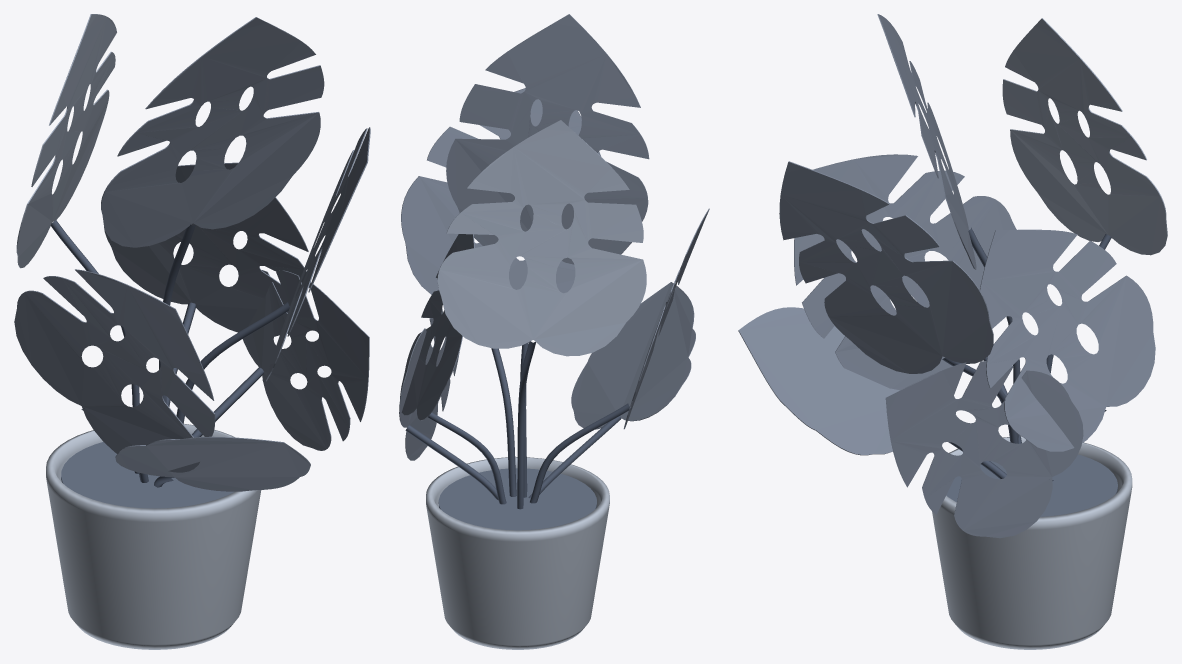
File: plant-monstera-lite.glb
The picture shows the model from 3 angles, left to right: view 1: azimuth 30°, elevation 25°; view 2: azimuth 150°, elevation 25°; view 3: azimuth 270°, elevation 25°; orthographic projection. The views are drawn at different scales.
Parts seen in each view (by area): view 1: soft, body, light, glass, dark; view 2: soft, light, body, glass, dark; view 3: soft, body, light, glass, dark.
Part boxes in pixels (bbox=[...]): soft: bbox=[14, 17, 370, 491]; body: bbox=[46, 424, 261, 649]; light: bbox=[16, 14, 116, 268]; glass: bbox=[61, 442, 234, 508]; dark: bbox=[51, 220, 289, 487]; soft: bbox=[399, 14, 709, 460]; light: bbox=[437, 120, 646, 356]; body: bbox=[426, 457, 609, 649]; glass: bbox=[438, 468, 596, 530]; dark: bbox=[405, 341, 631, 509]; soft: bbox=[738, 14, 1155, 538]; body: bbox=[932, 436, 1132, 649]; light: bbox=[1002, 18, 1167, 255]; glass: bbox=[946, 454, 1117, 516]; dark: bbox=[942, 227, 1111, 480].
Size of the model in its own units: 0.5625 by 1.12 by 0.7112.
